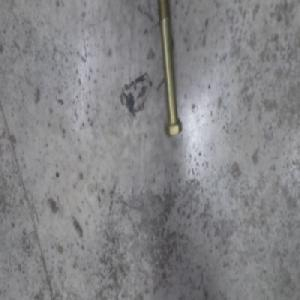Bolt: (157, 11, 183, 143)
